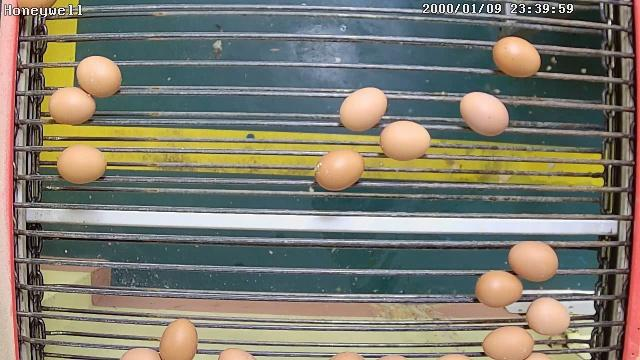egg: (338, 86, 389, 136), (459, 88, 510, 138), (312, 145, 366, 192), (378, 118, 432, 162), (506, 239, 560, 283), (55, 142, 108, 186), (493, 35, 543, 80), (76, 54, 123, 100), (473, 268, 524, 308), (48, 85, 96, 126), (481, 323, 534, 360), (156, 317, 200, 360), (526, 294, 571, 336)
